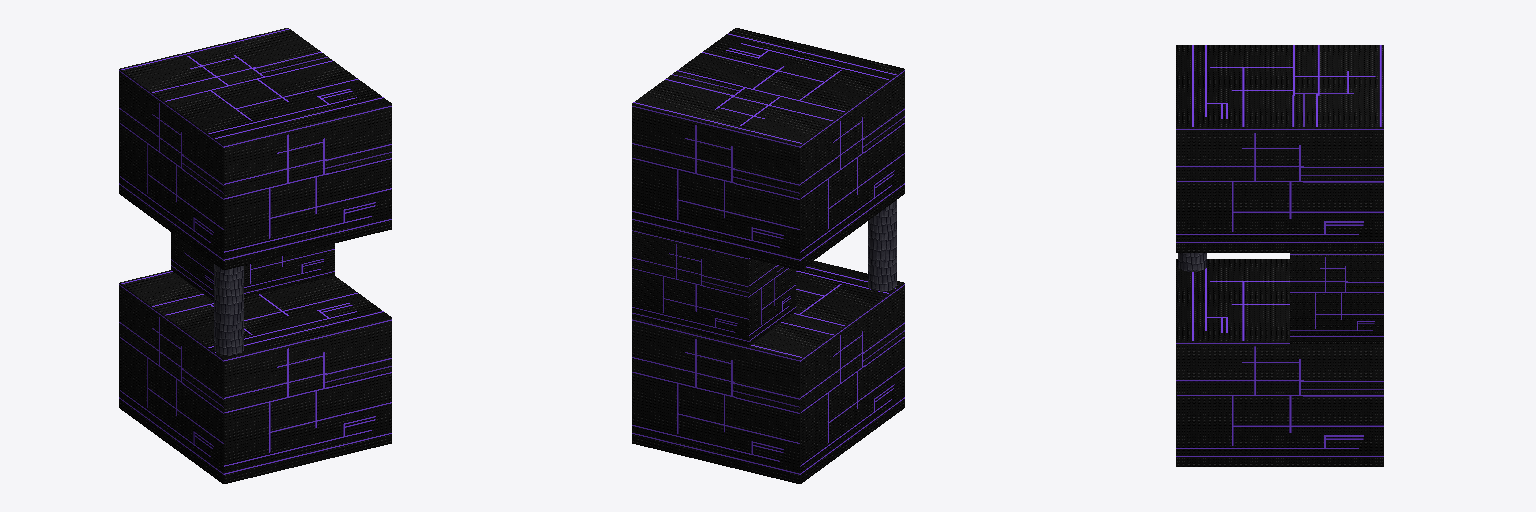
The picture shows the model from 3 angles: view 1: azimuth 30°, elevation 25°; view 2: azimuth 150°, elevation 25°; view 3: azimuth 270°, elevation 25°; orthographic projection.
Visible parts, largest first — view 1: Box003, Box001, Box002, Cylinder001; view 2: Box003, Box001, Box002, Cylinder001; view 3: Box003, Box001, Box002.
Boxes of the visible parts, box(x1,y1,x2,y2) form: Box003: box(119, 28, 391, 269); Box001: box(119, 270, 391, 483); Box002: box(171, 232, 334, 300); Cylinder001: box(214, 264, 243, 355); Box003: box(632, 28, 904, 269); Box001: box(632, 261, 904, 483); Box002: box(632, 230, 795, 345); Cylinder001: box(868, 200, 896, 291); Box003: box(1176, 45, 1383, 252); Box001: box(1176, 259, 1383, 466); Box002: box(1290, 253, 1383, 343).
Bounding box in the file's own units: 0.3465 × 0.6659 × 0.3703.
Materials: 2 (2 with a texture image).